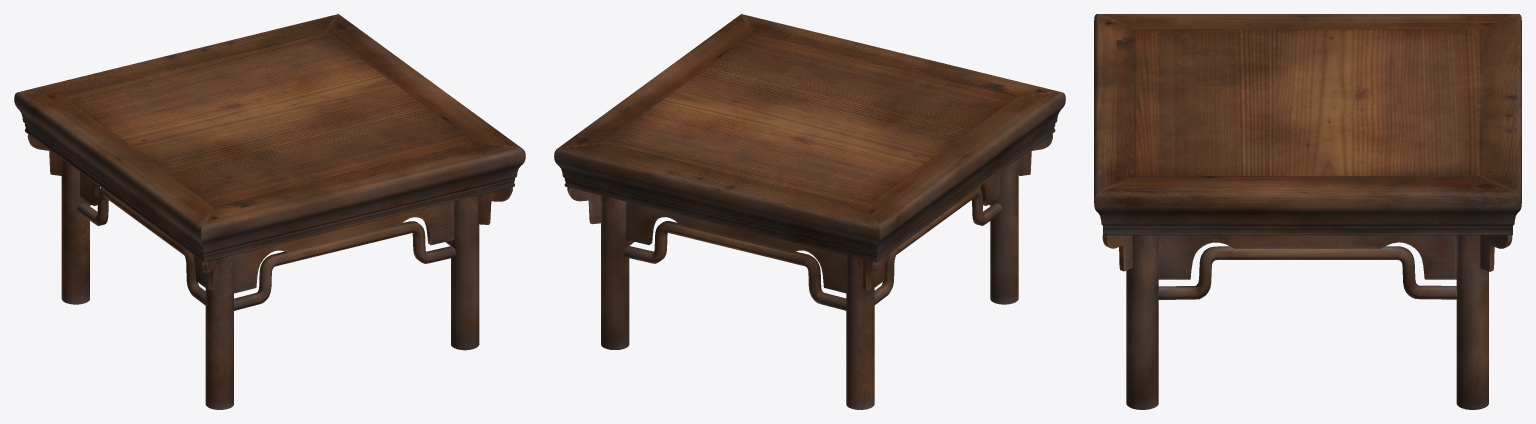
The model's file is ChineseTeaTable.glb.
The picture shows the model from 3 angles, left to right: view 1: azimuth 30°, elevation 25°; view 2: azimuth 150°, elevation 25°; view 3: azimuth 270°, elevation 25°; orthographic projection. The views are drawn at different scales.
Parts seen in each view (by area): view 1: chinese_tea_table; view 2: chinese_tea_table; view 3: chinese_tea_table.
Part boxes in pixels (left/top/right/bottom): chinese_tea_table: left=14, top=14, right=525, bottom=409; chinese_tea_table: left=554, top=14, right=1065, bottom=409; chinese_tea_table: left=1094, top=14, right=1521, bottom=409.
Size of the model in its own units: 0.8413 by 0.4986 by 0.8356.
1 material, 1 textured.
